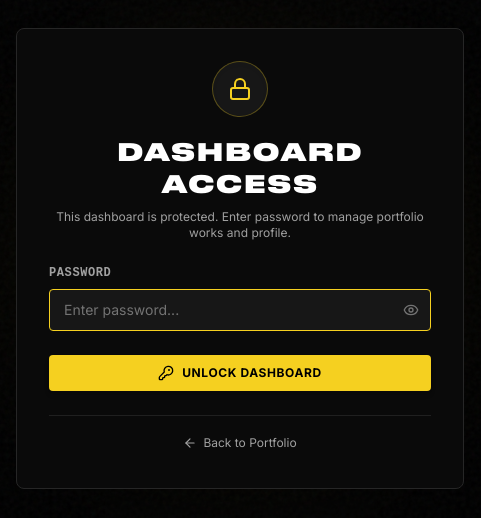
Test: Dashboard Password Protection › shows error when incorrect password is submitted
In the password field labelled "Password": (240, 310) [49,288,431,330], type "wrongpass"
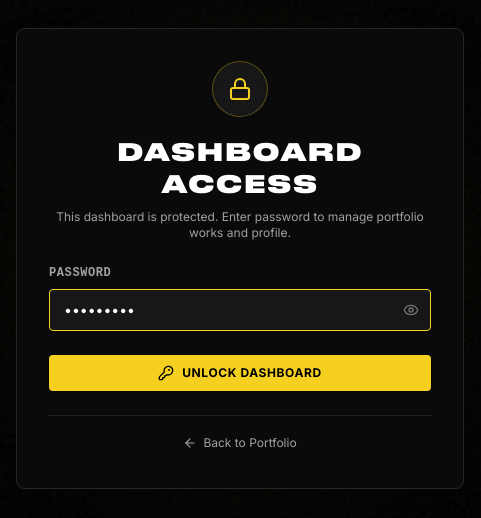
Click the button "Unlock Dashboard": (240, 372) [49,354,431,390]
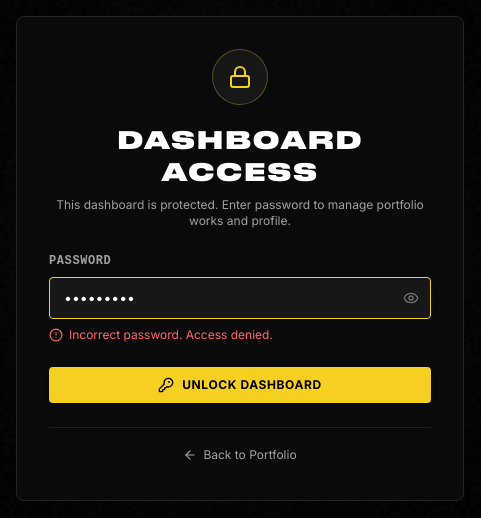
Result: the text "Incorrect password. Access denied." is shown at [69,326,273,342]
